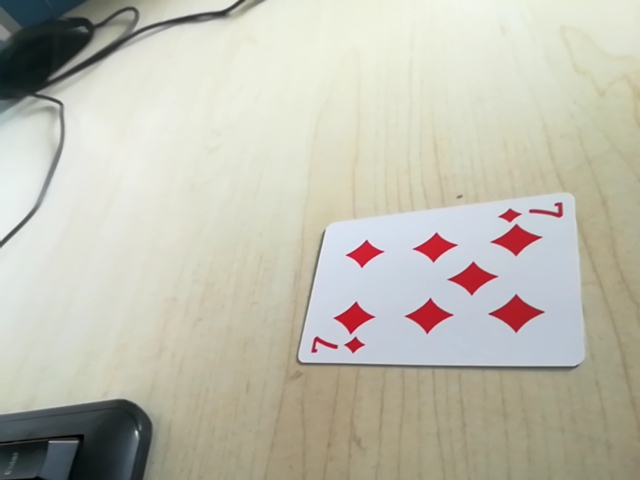fk 7: (497, 199, 571, 228), (302, 334, 363, 360)
